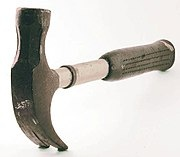hammer: (11, 5, 174, 151)
